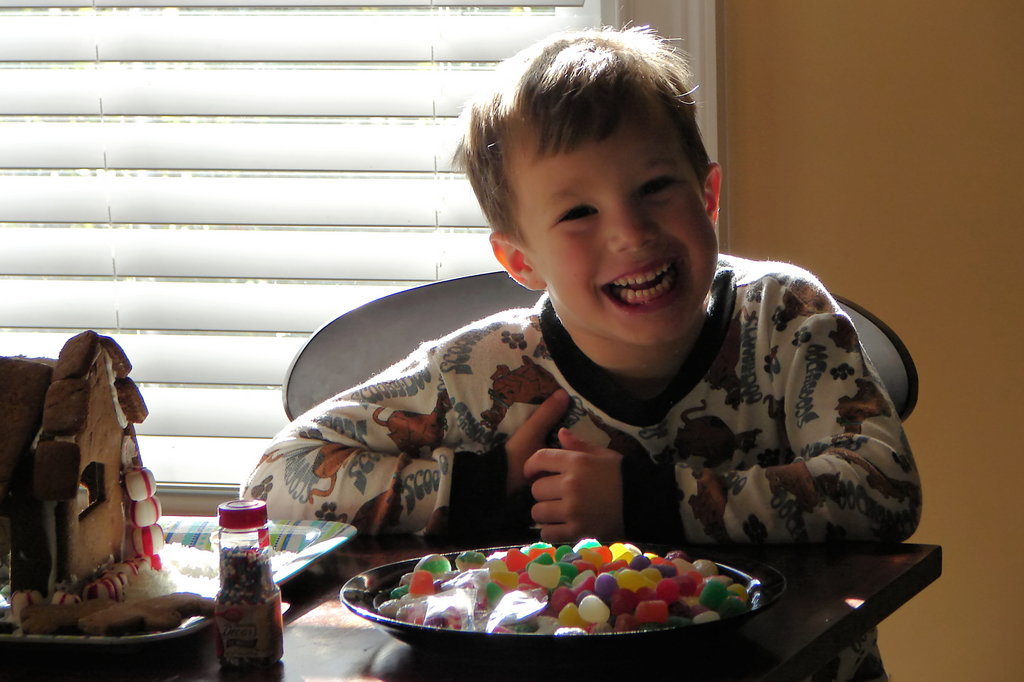cake: (0, 328, 172, 635)
